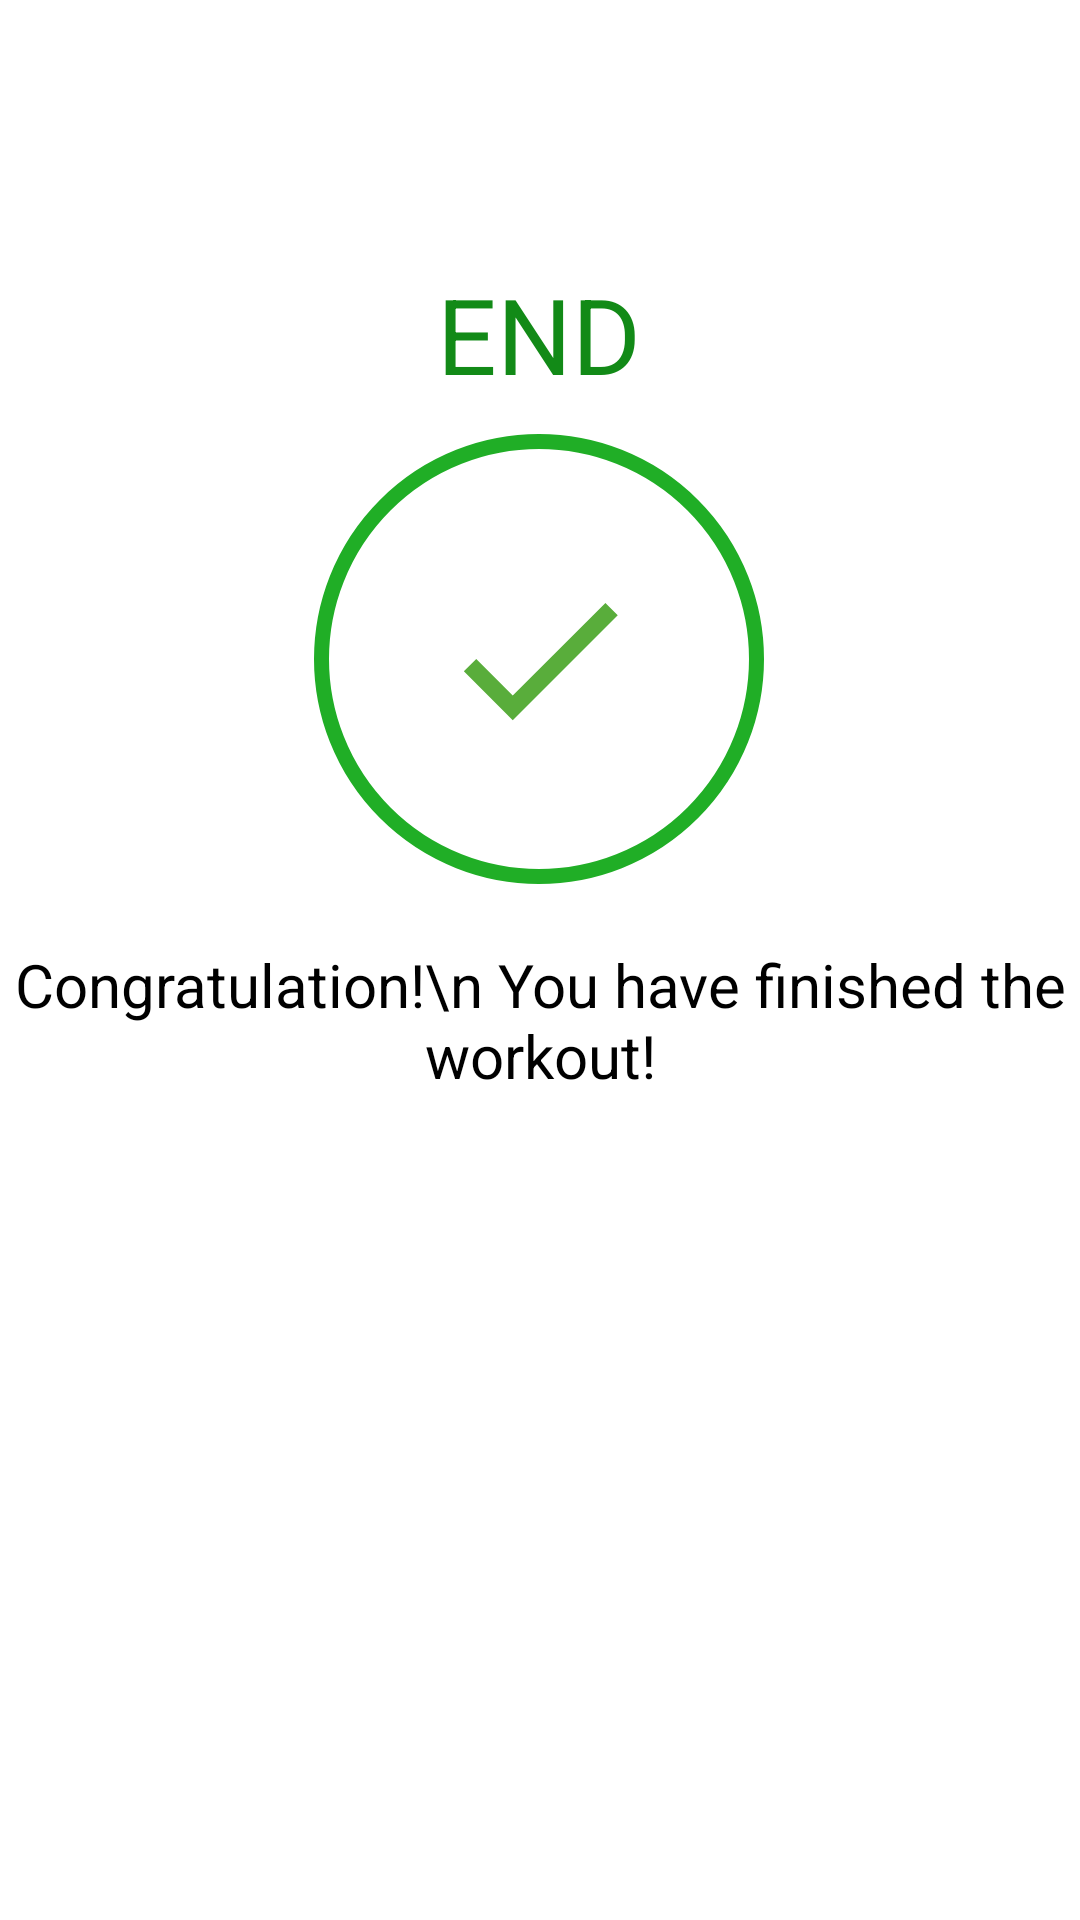

Named icons in this screenshot (1080 x 1920) and their bounding boxes, (x1, y1, x2, y2):
rite: (464, 603, 618, 720)
